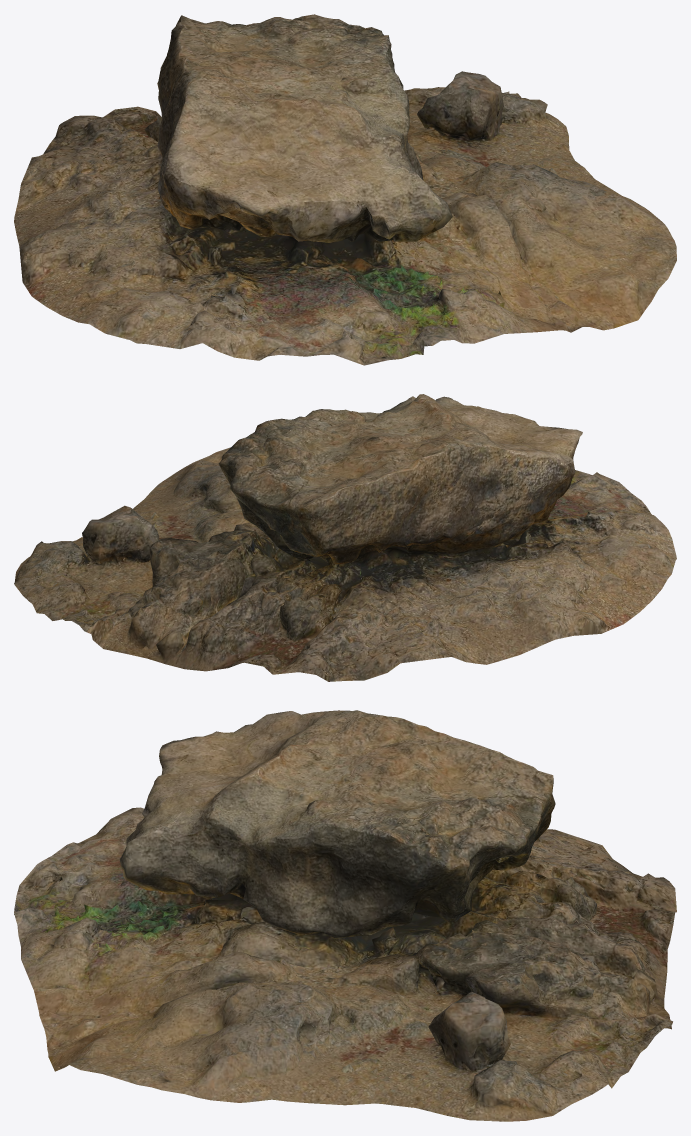
The picture shows the model from 3 angles, top to bottom: view 1: azimuth 30°, elevation 25°; view 2: azimuth 150°, elevation 25°; view 3: azimuth 270°, elevation 25°; orthographic projection. The views are drawn at different scales.
Visible parts, largest first — view 1: coast_rocks_05_lod0; view 2: coast_rocks_05_lod0; view 3: coast_rocks_05_lod0.
Boxes of the visible parts, x1,y1,x2,y2 form: coast_rocks_05_lod0: (14, 14, 676, 365); coast_rocks_05_lod0: (14, 394, 676, 681); coast_rocks_05_lod0: (14, 710, 676, 1121).
Size of the model in its own units: 4.04 by 1.32 by 3.75.
Materials: 1 (1 with a texture image).
